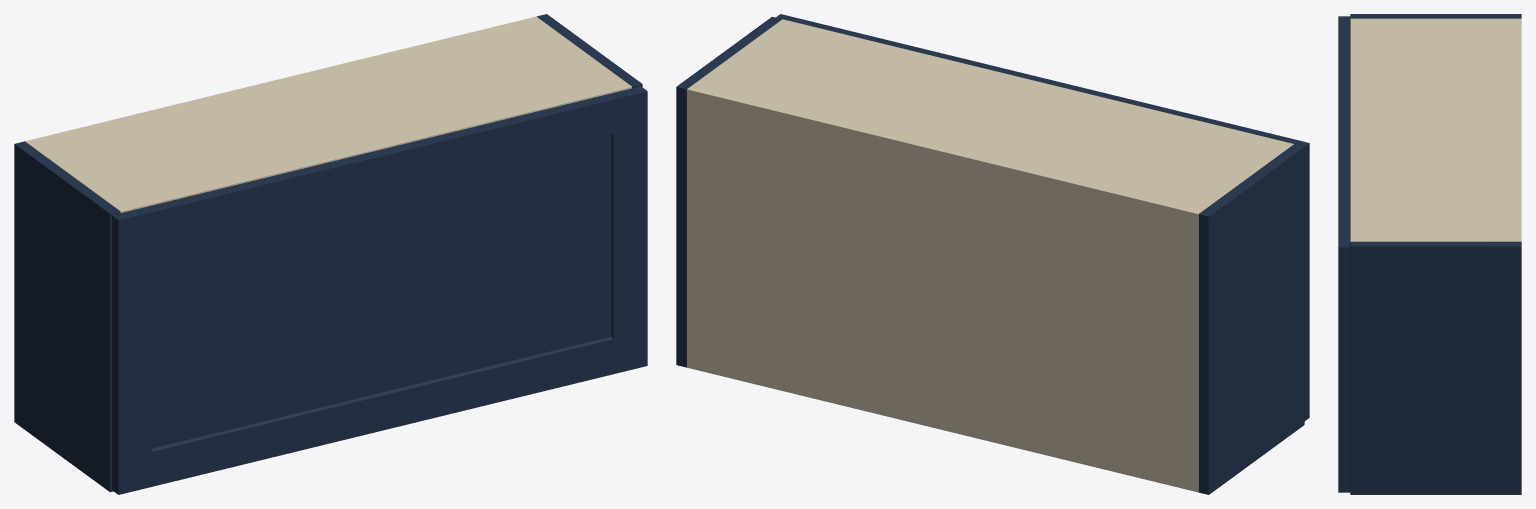
The model's file is oppein-ply-bss-wsl3618.glb.
3 renders of one model, left to right at view 1: azimuth 30°, elevation 25°; view 2: azimuth 150°, elevation 25°; view 3: azimuth 270°, elevation 25°, orthographic. The views are drawn at different scales.
Parts seen in each view (by area): view 1: Door, Cabinet top, Cabinet side, Cabinet back, Cabinet side.001; view 2: Cabinet back, Cabinet top, Cabinet side, Door, Cabinet side.001, Cabinet bottom; view 3: Cabinet side.001, Cabinet top, Door, Cabinet back, Cabinet side.
Part boxes in pixels (bbox=[...]): Door: bbox=[112, 86, 647, 494]; Cabinet top: bbox=[26, 17, 631, 212]; Cabinet side: bbox=[14, 141, 120, 492]; Cabinet back: bbox=[25, 16, 539, 143]; Cabinet side.001: bbox=[536, 14, 642, 88]; Cabinet back: bbox=[687, 86, 1201, 492]; Cabinet top: bbox=[687, 19, 1293, 224]; Cabinet side: bbox=[1198, 144, 1304, 494]; Door: bbox=[776, 14, 1309, 420]; Cabinet side.001: bbox=[676, 16, 782, 367]; Cabinet bottom: bbox=[687, 357, 1197, 491]; Cabinet side.001: bbox=[1350, 241, 1521, 494]; Cabinet top: bbox=[1350, 18, 1521, 241]; Door: bbox=[1338, 16, 1350, 492]; Cabinet back: bbox=[1514, 18, 1521, 241]; Cabinet side: bbox=[1350, 14, 1521, 18].
Bounding box in the file's own units: 0.9144 × 0.4572 × 0.3048.
